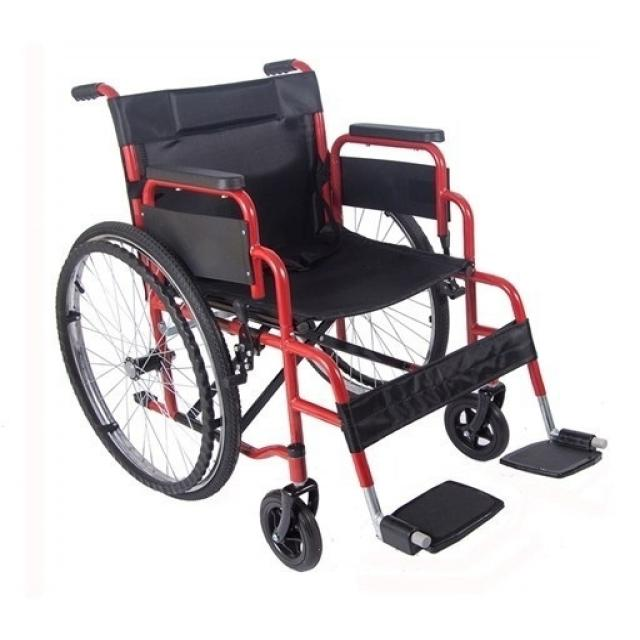wheelchair: (45, 48, 614, 577)
